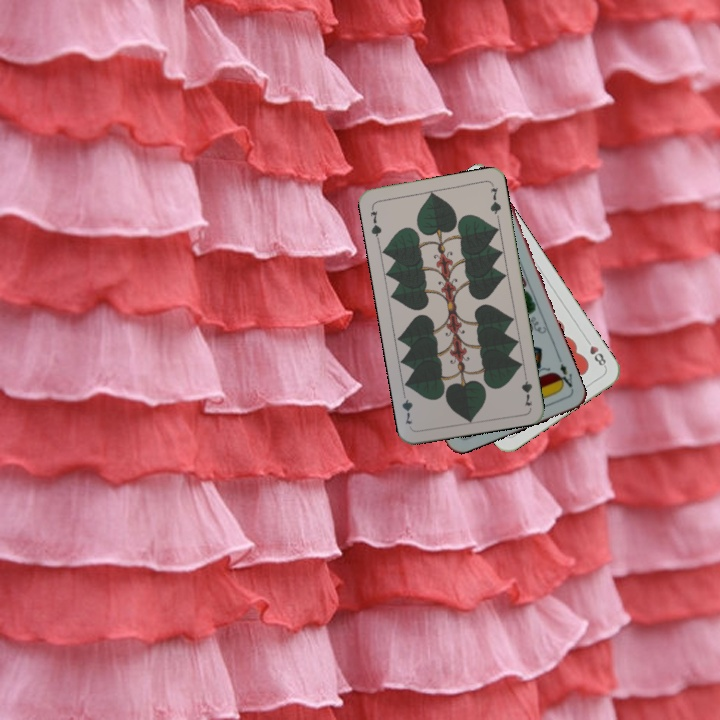EA: (552, 359, 576, 393)
G7: (366, 203, 384, 243), (518, 368, 535, 409)
H8: (581, 334, 609, 370)
